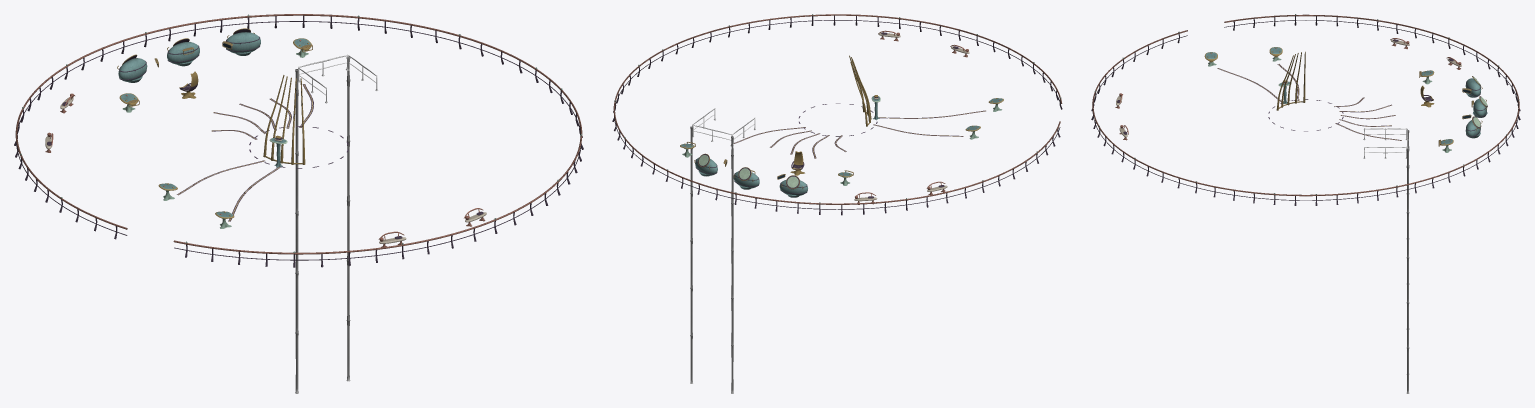
Rendered from bridge_props.glb.
The picture shows the model from 3 angles, left to right: view 1: azimuth 30°, elevation 25°; view 2: azimuth 150°, elevation 25°; view 3: azimuth 270°, elevation 25°; orthographic projection. The views are drawn at different scales.
Parts seen in each view (by area): view 1: Lift guide, archive_shrine_ribs, Lift guide.001, console_navigation_0, console_navigation_1, console_navigation_2; view 2: Lift guide, Lift guide.001, console_navigation_2, console_navigation_1, archive_shrine_ribs, console_navigation_0; view 3: archive_shrine_ribs, Lift guide.001.
Part boxes in pixels (<box>): Lift guide: <box>295,69,298,393</box>; archive_shrine_ribs: <box>263,75,305,164</box>; Lift guide.001: <box>346,57,350,381</box>; console_navigation_0: <box>222,29,260,55</box>; console_navigation_1: <box>167,39,199,66</box>; console_navigation_2: <box>118,55,158,82</box>; Lift guide: <box>731,136,733,393</box>; Lift guide.001: <box>690,126,692,383</box>; console_navigation_2: <box>777,174,807,197</box>; console_navigation_1: <box>733,167,759,189</box>; archive_shrine_ribs: <box>849,55,871,126</box>; console_navigation_0: <box>695,154,727,176</box>; archive_shrine_ribs: <box>1276,51,1305,110</box>; Lift guide.001: <box>1406,149,1409,393</box>.
Bounding box in the file's own units: 43.14 × 32.45 × 43.14.
Materials: 13 (13 with a texture image).
